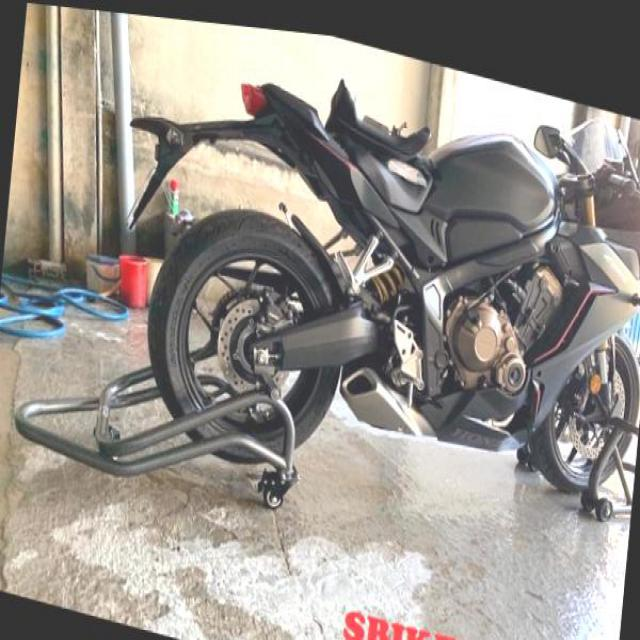CBR650R: (135, 12, 639, 563)
